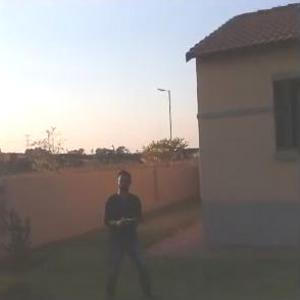follow: (100, 164, 159, 299)
